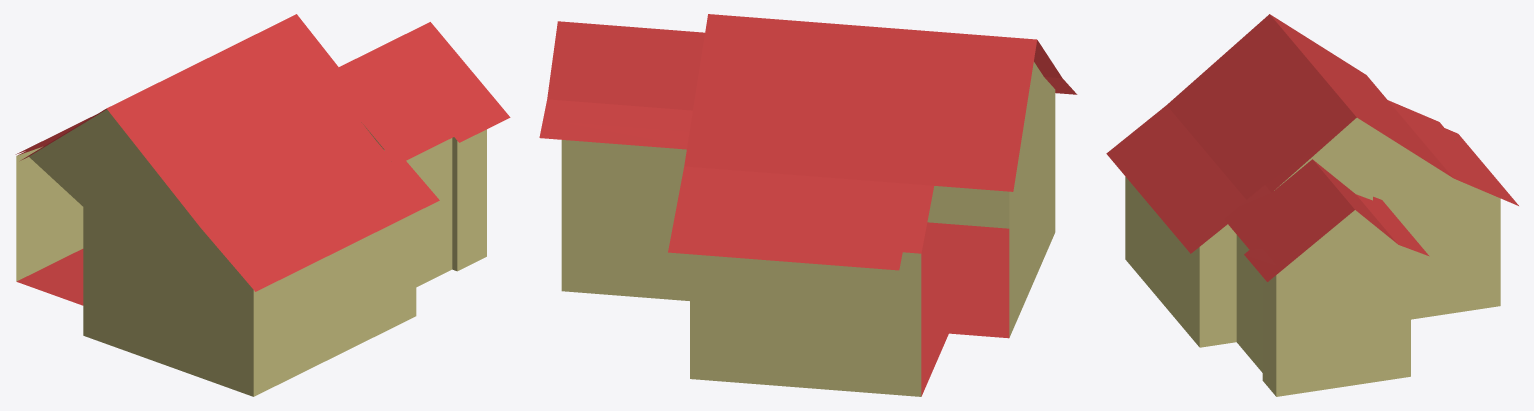
3 views of the same model, side by side, from view 1: azimuth 30°, elevation 25°; view 2: azimuth 150°, elevation 25°; view 3: azimuth 270°, elevation 25° (orthographic). The views are drawn at different scales.
Bounding box in the file's own units: 30.17 × 27.94 × 16.17.
